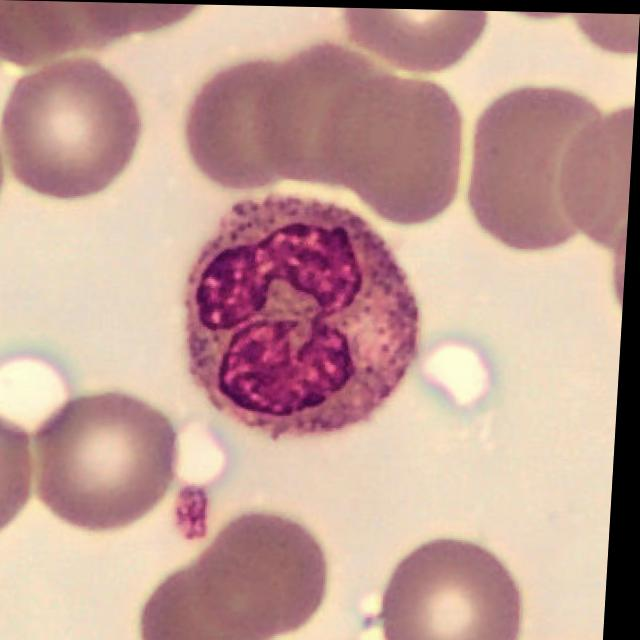Neutrofilo segmentado: (187, 177, 426, 438)
